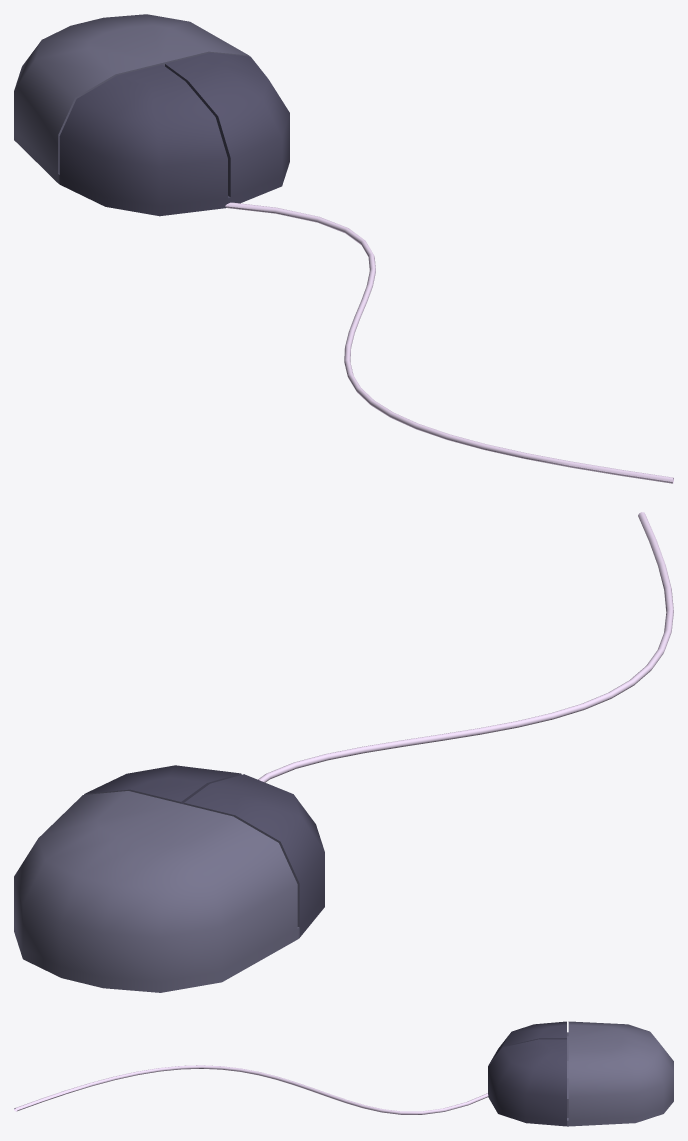
Rendered from mouse.fbx.
3 views of the same model, one above another, from view 1: azimuth 30°, elevation 25°; view 2: azimuth 150°, elevation 25°; view 3: azimuth 270°, elevation 25° (orthographic). The views are drawn at different scales.
Visible parts, largest first — view 1: Cube; view 2: Cube; view 3: Cube.
Boxes of the visible parts, left/top/right/bottom form: Cube: left=14, top=14, right=673, bottom=483; Cube: left=14, top=512, right=673, bottom=992; Cube: left=14, top=1021, right=673, bottom=1126.
Size of the model in its own units: 155 by 68.46 by 709.
